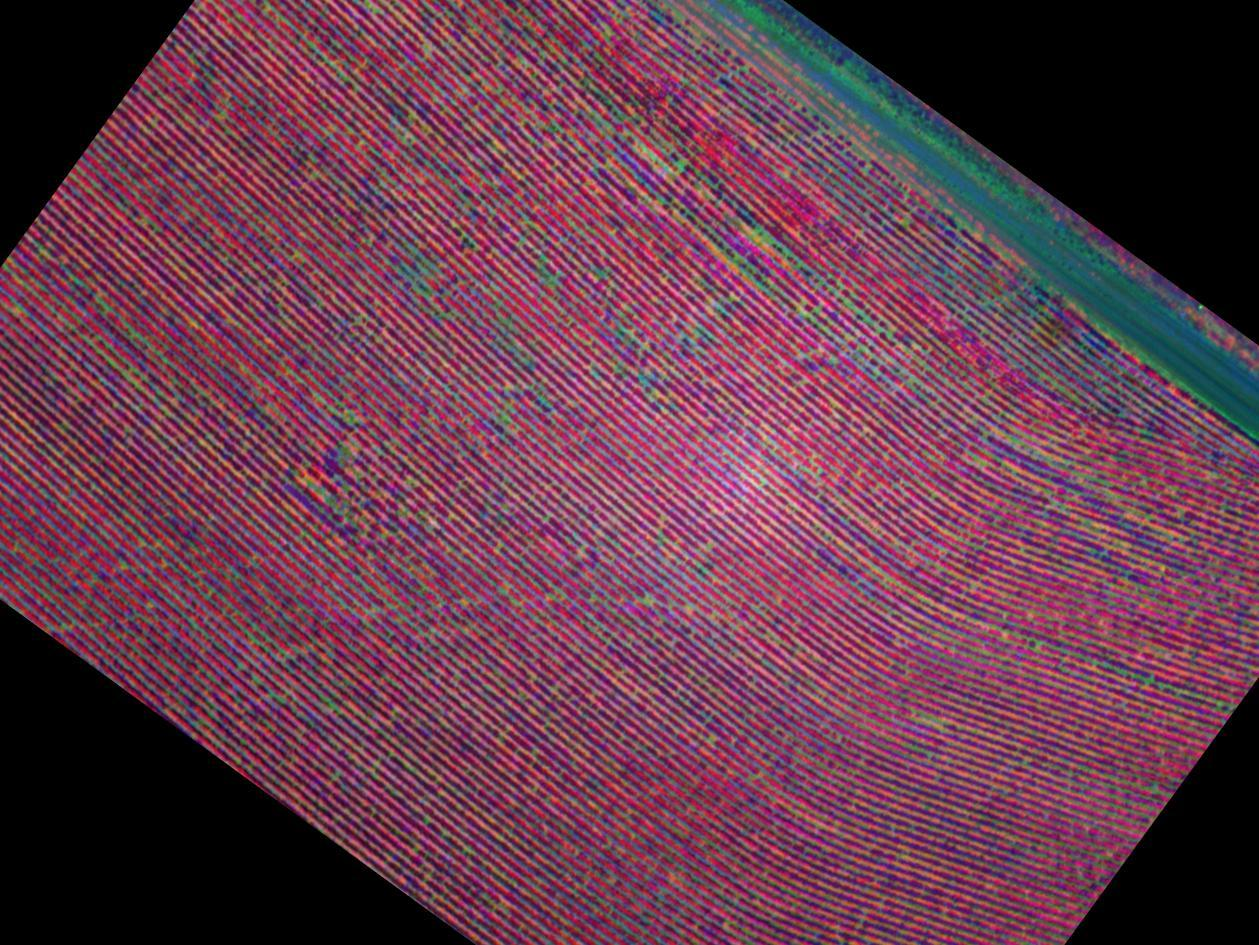dc: (305, 418, 390, 518), (616, 115, 703, 194), (896, 681, 964, 759)
